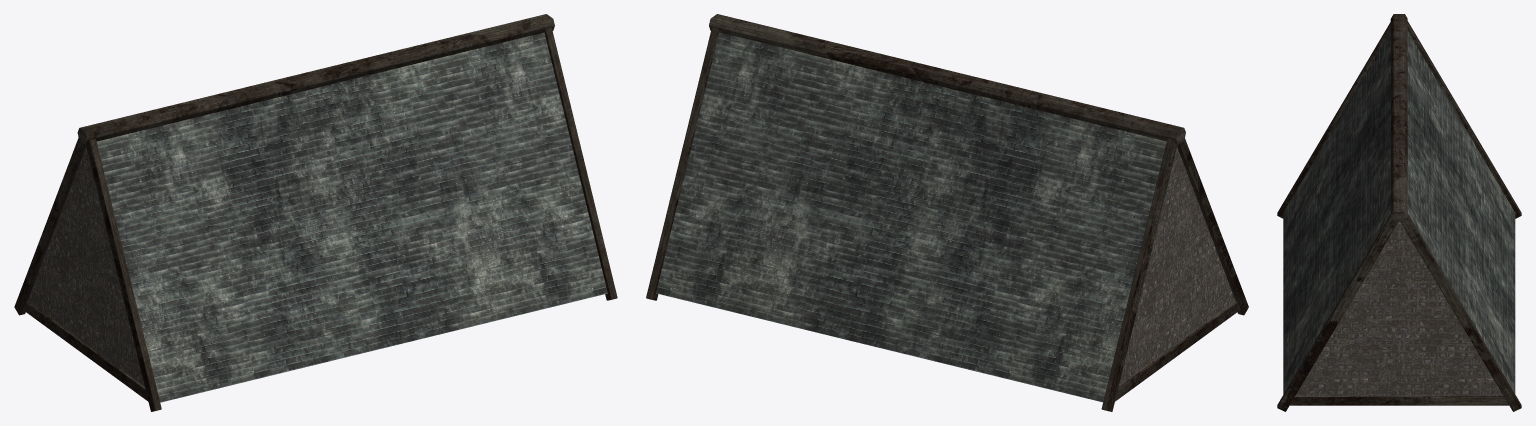
File: CastleRoofStone.fbx
The picture shows the model from 3 angles, left to right: view 1: azimuth 30°, elevation 25°; view 2: azimuth 150°, elevation 25°; view 3: azimuth 270°, elevation 25°; orthographic projection. The views are drawn at different scales.
Parts seen in each view (by area): view 1: Castle Tower Roof Stone; view 2: Castle Tower Roof Stone; view 3: Castle Tower Roof Stone.
Boxes of the visible parts, bbox=[...] form: Castle Tower Roof Stone: bbox=[14, 14, 617, 411]; Castle Tower Roof Stone: bbox=[646, 14, 1248, 411]; Castle Tower Roof Stone: bbox=[1277, 14, 1521, 411].
Bounding box in the file's own units: 1231 × 589 × 645.
